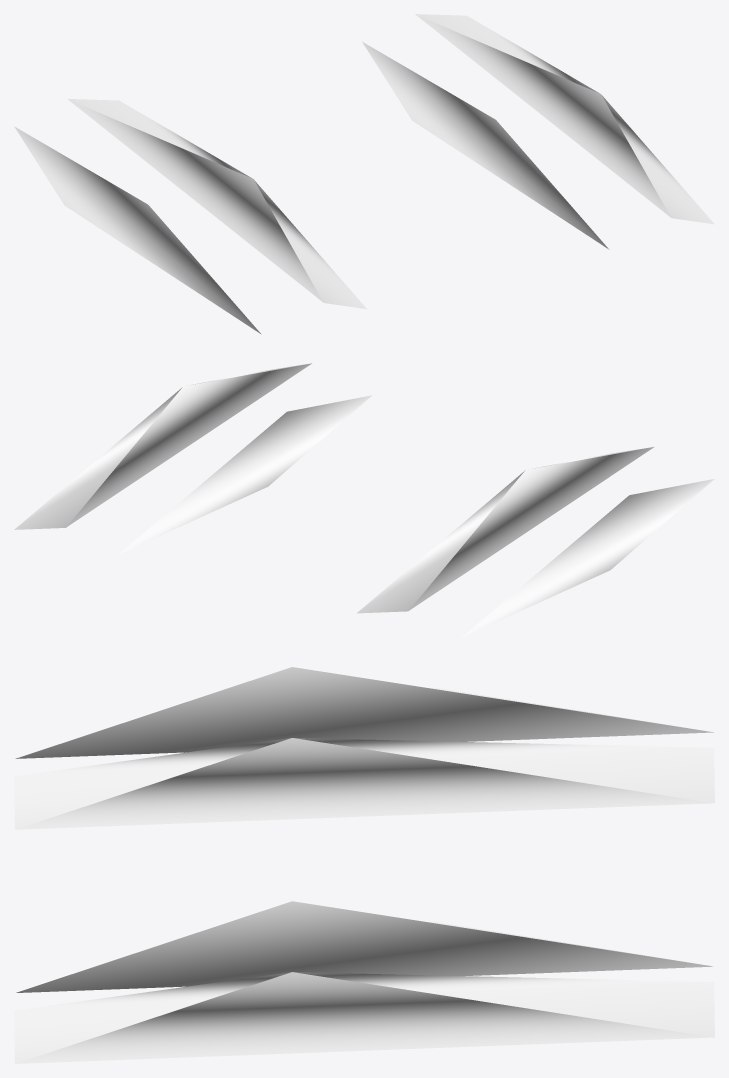
3 views of the same model, one above another, from view 1: azimuth 30°, elevation 25°; view 2: azimuth 150°, elevation 25°; view 3: azimuth 270°, elevation 25° (orthographic). The views are drawn at different scales.
Bounding box in the file's own units: 0.7276 × 0.0828 × 0.6348.
Materials: 1 (1 with a texture image).
